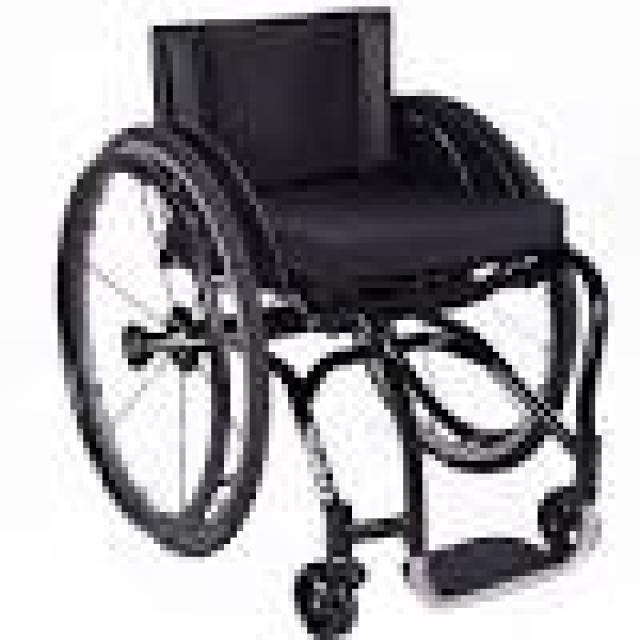wheelchairs: (38, 13, 628, 627)
